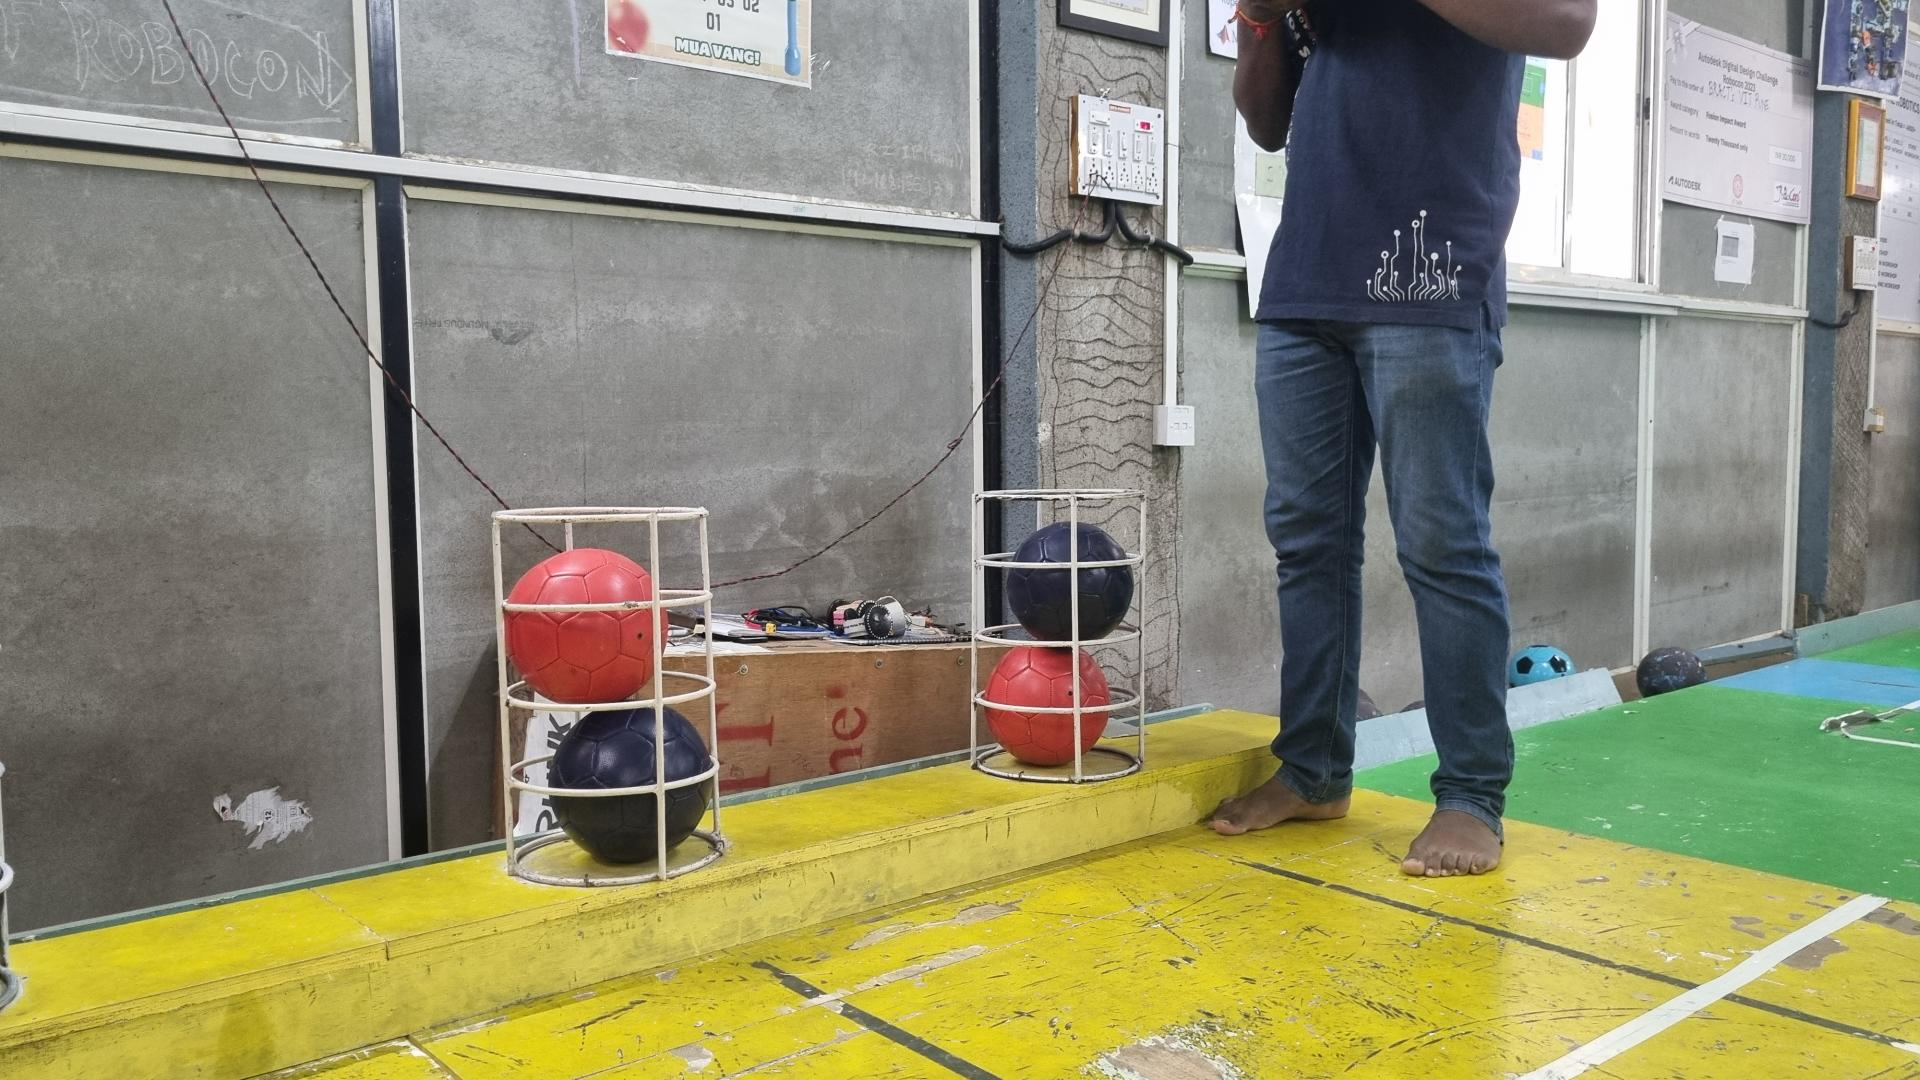dhoka: (547, 704, 716, 865), (1005, 521, 1133, 641)
laale: (504, 547, 669, 705), (985, 644, 1113, 762)
